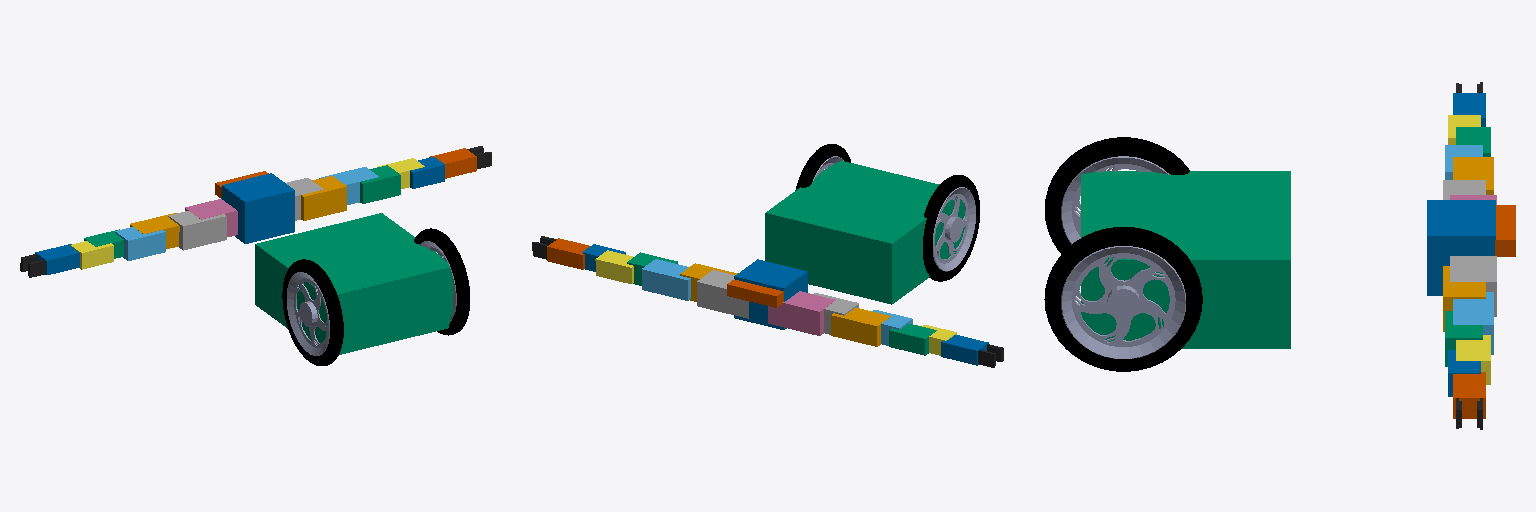
robot.urdf — Krang:
<?xml version="1.0" ?>
<!-- @file Krang.urdf -->
<!-- @author [author] -->
<!-- @date May 10, 2013 -->
<!-- @brief This file contains the .urdf definition for Krang. -->
<!-- NOTE: The center of mass locations are taken from the MassTable by summing up the -->
<!-- individual part values for the sections (which correspond to nodes here). -->
<!-- TODO: Set the center of mass locations -->
<!-- TODO: Set the correct masses. Note that the dae models have the brackets divided in two and -->
<!-- connected to the middle motor for which we do not have measurements. -->
<!-- NOTE: The bounding box values are taken by finding the min and max values of the dae files. -->

<robot name="Krang">

	<!-- Links -->

	<link name = "LWheel"> 
    <inertial>
      <mass value="4.66"/>
      <inertia ixx="0.102019" ixy="2.45462e-05" ixz="0.00713022" iyy="0.0832724" iyz="-0.00131733" izz="0.086493"/>
      <origin xyz="0 0 0"/>
    </inertial>
		<visual> <geometry> <mesh filename="Base/oldwheel.dae" /> </geometry> </visual> 
		<collision> <geometry> <mesh filename="Base/oldwheel.dae" /> </geometry> </collision> 
	</link>

	<link name = "RWheel"> 
    <inertial>
      <mass value="4.66"/>
      <inertia ixx="0.102019" ixy="2.45462e-05" ixz="0.00713022" iyy="0.0832724" iyz="-0.00131733" izz="0.086493"/>
      <origin xyz="0 0 0"/>
    </inertial>
		<visual> <geometry> <mesh filename="Base/oldwheel.dae" /> </geometry> </visual> 
		<collision> <geometry> <mesh filename="Base/oldwheel.dae" /> </geometry> </collision> 
	</link>

	<link name = "Base"> 
    <inertial>
      <mass value="75.767"/>
      <inertia ixx="0.102019" ixy="2.45462e-05" ixz="0.00713022" iyy="0.0832724" iyz="-0.00131733" izz="0.086493"/>
      <!-- origin xyz="-0.00336451 0.107572 -0.00636184"/ -->
      <origin xyz="-0.00194 0.076721 0.000628"/>
    </inertial>
		<visual> <origin xyz="0.00225 0.2097395 0.006300"/> <geometry> <box size="0.7165 0.71048 0.32860"/> </geometry> </visual> 
		<collision> <origin xyz="0.00225 0.2097395 0.006300"/> <geometry> <box size="0.7165 0.71048 0.32860"/> </geometry> </collision> 
	</link>

	<link name = "Spine"> 
    <inertial>
      <mass value="14.006"/>
      <inertia ixx="0.102019" ixy="2.45462e-05" ixz="0.00713022" iyy="0.0832724" iyz="-0.00131733" izz="0.086493"/>
			<!-- an offset of -0.02937 is added due to bad dae file and to align with base com ([author]: This is not done in the new valuws for now because I don't understand the reason) -->
      <!-- origin xyz="-0.02937 0.285314 0.0974926"/ -->
      <origin xyz="-0.000345 0.080526 0.051222"/>
    </inertial>
		<!-- visual> <origin xyz="-0.026 0.230150 0.053887"/> <geometry> <box size="0.2340 0.59430 0.24097"/> </geometry> </visual --> 
		<collision> <origin xyz="-0.026 0.230150 0.053887"/> <geometry> <box size="0.2340 0.59430 0.24097"/> </geometry> </collision> 
	</link>


	<link name = "Bracket"> 
    <inertial>
      <mass value="6.533"/>
      <inertia ixx="0.102019" ixy="2.45462e-05" ixz="0.00713022" iyy="0.0832724" iyz="-0.00131733" izz="0.086493"/>
			<!-- offseted with 0.0827 because the origin of the bracket is at the bottom ([author]: New values don't do this as I don't know what this means) -->
      <!-- origin xyz="0 0.080606 -0.00314267"/-->
    	<origin xyz="0 0.076445 -0.005972"/>
    </inertial>
		<visual> <origin xyz="0.0012875 0.0582 -0.0280530"/> <geometry> <box size="0.2815 0.23 0.22611"/> </geometry> </visual> 
		<collision> <origin xyz="0.0012875 0.0582 -0.0280530"/> <geometry> <box size="0.2815 0.23 0.22611"/> </geometry> </collision> 
	</link>

	<link name = "Kinect"> 
    <inertial>
      <mass value="0.705"/>
      <inertia ixx="0.102019" ixy="2.45462e-05" ixz="0.00713022" iyy="0.0832724" iyz="-0.00131733" izz="0.086493"/>
      <origin xyz="0.0 -0.04 -0.028"/>
    </inertial>
		<visual> <origin xyz="0.0 -0.0251 -0.0185"/> <geometry> <box size="0.28 0.07 0.063"/> </geometry> </visual> 
		<collision> <origin xyz="0.0 -0.0251 -0.0185"/> <geometry> <box size="0.28 0.07 0.063"/> </geometry> </collision> 
	</link>

	<link name = "L1"> 
    <inertial>
      <mass value="3.952"/>
      <inertia ixx="0.102019" ixy="2.45462e-05" ixz="0.00713022" iyy="0.0832724" iyz="-0.00131733" izz="0.086493"/>
      <!-- origin xyz="0.0063626 -0.00725706 0"/-->
      <origin xyz="0.006575 -0.160104 0"/>
    </inertial>
		<visual> <origin xyz="0.015 -0.080866 0.0"/> <geometry> <box size="0.16 0.29367 0.13188"/> </geometry> </visual> 
		<collision> <origin xyz="0.015 -0.080866 0.0"/> <geometry> <box size="0.16 0.29367 0.13188"/> </geometry> </collision> 
	</link>

	<link name = "L2"> 
    <inertial>
      <mass value="3.925"/>
      <inertia ixx="0.102019" ixy="2.45462e-05" ixz="0.00713022" iyy="0.0832724" iyz="-0.00131733" izz="0.086493"/>
      <!-- origin xyz="0.0101136 -0.15332 0"/-->
      <origin xyz="0.006895 -0.006745 0"/>
    </inertial>
		<visual> <origin xyz="0.017042 -0.058309 0.0"/> <geometry> <box size="0.14591 0.24658 0.13"/> </geometry> </visual> 
		<collision> <origin xyz="0.017042 -0.058309 0.0"/> <geometry> <box size="0.14591 0.24658 0.13"/> </geometry> </collision> 
	</link>

	<link name = "L3"> 
    <inertial>
      <mass value="2.373"/>
      <inertia ixx="0.102019" ixy="2.45462e-05" ixz="0.00713022" iyy="0.0832724" iyz="-0.00131733" izz="0.086493"/>
      <!-- origin xyz="0.0071222 -0.00803823 0"/-->
      <origin xyz="0.006855 -0.138146 0"/>
    </inertial>
		<visual> <origin xyz="0.014000 -0.075113 0.0"/> <geometry> <box size="0.13800 0.26217 0.11189"/> </geometry> </visual> 
		<collision> <origin xyz="0.014000 -0.075113 0.0"/> <geometry> <box size="0.13800 0.26217 0.11189"/> </geometry> </collision> 
	</link>

	<link name = "L4"> 
    <inertial>
      <mass value="2.373"/>
      <inertia ixx="0.102019" ixy="2.45462e-05" ixz="0.00713022" iyy="0.0832724" iyz="-0.00131733" izz="0.086493"/>
      <!--origin xyz="0.0115211 -0.1255 0"/-->
      <origin xyz="0.007691 -0.007366 0"/>
    </inertial>
		<visual> <origin xyz="0.018200 -0.052050 0.0"/> <geometry> <box size="0.12960 0.2141 0.11"/> </geometry> </visual> 
		<collision> <origin xyz="0.018200 -0.052050 0.0"/> <geometry> <box size="0.12960 0.2141 0.11"/> </geometry> </collision> 
	</link>

	<link name = "L5"> 
    <inertial>
      <mass value="1.41334"/>
      <inertia ixx="0.102019" ixy="2.45462e-05" ixz="0.00713022" iyy="0.0832724" iyz="-0.00131733" izz="0.086493"/>
      <!--origin xyz="0.00705037 -0.00747172 0"/-->
      <origin xyz="0.006777 -0.109824 0"/>
    </inertial>
		<visual> <origin xyz="0.0145115 -0.0571105 0.0000425"/> <geometry> <box size="0.117977 0.204179 0.089915"/> </geometry> </visual> 
		<collision> <origin xyz="0.0145115 -0.0571105 0.0000425"/> <geometry> <box size="0.117977 0.204179 0.089915"/> </geometry> </collision> 
	</link>

	<link name = "L6"> 
    <inertial>
      <mass value="2.64634"/>
      <inertia ixx="0.102019" ixy="2.45462e-05" ixz="0.00713022" iyy="0.0832724" iyz="-0.00131733" izz="0.086493"/>
      <!--origin xyz="0.0105523 -0.117163 0"/-->
      <origin xyz="0.005684 -0.071438 0"/>
    </inertial>
		<visual> <origin xyz="0.0175015 -0.0481615 0.0"/> <geometry> <box size="0.111977 0.185277 0.089"/> </geometry> </visual> 
		<collision> <origin xyz="0.0175015 -0.0481615 0.0"/> <geometry> <box size="0.111977 0.185277 0.089"/> </geometry> </collision> 
	</link>

	<link name = "lGripper"> 
    <inertial>
      <mass value="2.3"/>
      <inertia ixx="0.102019" ixy="2.45462e-05" ixz="0.00713022" iyy="0.0832724" iyz="-0.00131733" izz="0.086493"/>
			<!-- An addition of 4.05 cms from the end of Schunk gripper to space between two halves of ft ([author]: I don't know what this means so defered it for later while changing to new values) -->
      <origin xyz="0.008 0 0.065"/>
    </inertial>
		<visual> <origin xyz="0.0 -0.0 0.02615" rpy="0.0 0.0 1.5708"/> <geometry> <box size="0.08 0.112 0.2025"/> </geometry> </visual> 
		<collision> <origin xyz="0.0 -0.0 0.02615" rpy="0.0 0.0 1.5708"/> <geometry> <box size="0.08 0.112 0.2025"/> </geometry> </collision> 
	</link>

	<link name = "lgPlate1">
    <inertial> <mass value="0.0001"/> </inertial>
		<visual> <geometry> <mesh filename="Schunk/gripperPlate.dae" /> </geometry> </visual>
	</link> 	

	<link name = "lgPlate2">
    <inertial> <mass value="0.0001"/> </inertial>
		<visual> <geometry> <mesh filename="Schunk/gripperPlate.dae" /> </geometry> </visual>
	</link> 	

	<link name = "R1"> 
    <inertial>
      <mass value="3.952"/>
      <inertia ixx="0.102019" ixy="2.45462e-05" ixz="0.00713022" iyy="0.0832724" iyz="-0.00131733" izz="0.086493"/>
      <!--origin xyz="0.0063626 -0.00725706 0"/-->
     <origin xyz="0.006575 -0.160104 0"/>
    </inertial>
		<visual> <origin xyz="0.015 -0.080866 0.0"/> <geometry> <box size="0.16 0.29367 0.13188"/> </geometry> </visual> 
		<collision> <origin xyz="0.015 -0.080866 0.0"/> <geometry> <box size="0.16 0.29367 0.13188"/> </geometry> </collision> 
	</link>

	<link name = "R2"> 
    <inertial>
      <mass value="3.925"/>
      <inertia ixx="0.102019" ixy="2.45462e-05" ixz="0.00713022" iyy="0.0832724" iyz="-0.00131733" izz="0.086493"/>
      <!--origin xyz="0.0101136 -0.15332 0"/-->
      <origin xyz="0.006895 -0.006745 0"/>
    </inertial>
		<visual> <origin xyz="0.017042 -0.058309 0.0"/> <geometry> <box size="0.14591 0.24658 0.13"/> </geometry> </visual> 
		<collision> <origin xyz="0.017042 -0.058309 0.0"/> <geometry> <box size="0.14591 0.24658 0.13"/> </geometry> </collision> 
	</link>

	<link name = "R3"> 
    <inertial>
      <mass value="2.373"/>
      <inertia ixx="0.102019" ixy="2.45462e-05" ixz="0.00713022" iyy="0.0832724" iyz="-0.00131733" izz="0.086493"/>
      <!--origin xyz="0.0071222 -0.00803823 0"/-->
      <origin xyz="0.006855 -0.138146 0"/>
    </inertial>
		<visual> <origin xyz="0.014000 -0.075113 0.0"/> <geometry> <box size="0.13800 0.26217 0.11189"/> </geometry> </visual> 
		<collision> <origin xyz="0.014000 -0.075113 0.0"/> <geometry> <box size="0.13800 0.26217 0.11189"/> </geometry> </collision> 
	</link>

	<link name = "R4"> 
    <inertial>
      <mass value="2.373"/>
      <inertia ixx="0.102019" ixy="2.45462e-05" ixz="0.00713022" iyy="0.0832724" iyz="-0.00131733" izz="0.086493"/>
      <!--origin xyz="0.0115211 -0.1255 0"/-->
      <origin xyz="0.007691 -0.007366 0"/>
    </inertial>
		<visual> <origin xyz="0.018200 -0.052050 0.0"/> <geometry> <box size="0.12960 0.2141 0.11"/> </geometry> </visual> 
		<collision> <origin xyz="0.018200 -0.052050 0.0"/> <geometry> <box size="0.12960 0.2141 0.11"/> </geometry> </collision> 
	</link>

	<link name = "R5"> 
    <inertial>
      <mass value="1.41334"/>
      <inertia ixx="0.102019" ixy="2.45462e-05" ixz="0.00713022" iyy="0.0832724" iyz="-0.00131733" izz="0.086493"/>
      <!--origin xyz="0.00705037 -0.00747172 0"/-->
      <origin xyz="0.006777 -0.109824 0"/>
    </inertial>
		<visual> <origin xyz="0.0145115 -0.0571105 0.0000425"/> <geometry> <box size="0.117977 0.204179 0.089915"/> </geometry> </visual> 
		<collision> <origin xyz="0.0145115 -0.0571105 0.0000425"/> <geometry> <box size="0.117977 0.204179 0.089915"/> </geometry> </collision> 
	</link>

	<link name = "R6"> 
    <inertial>
      <mass value="2.64634"/>
      <inertia ixx="0.102019" ixy="2.45462e-05" ixz="0.00713022" iyy="0.0832724" iyz="-0.00131733" izz="0.086493"/>
      <!--origin xyz="0.0105523 -0.117163 0"/-->
      <origin xyz="0.005684 -0.071438 0"/>
    </inertial>
		<visual> <origin xyz="0.0175015 -0.0481615 0.0"/> <geometry> <box size="0.111977 0.185277 0.089"/> </geometry> </visual> 
		<collision> <origin xyz="0.0175015 -0.0481615 0.0"/> <geometry> <box size="0.111977 0.185277 0.089"/> </geometry> </collision> 
	</link>

	<link name = "rGripper"> 
    <inertial>
      <mass value="2.3"/>
      <inertia ixx="0.102019" ixy="2.45462e-05" ixz="0.00713022" iyy="0.0832724" iyz="-0.00131733" izz="0.086493"/>
			<!-- An addition of 4.05 cms from the end of Schunk gripper to space between two halves of ft -->
      <!--origin xyz="0 0 0.1055"/-->
      <origin xyz="0.008 0 0.065"/>
    </inertial>
		<visual> <origin xyz="0.0 -0.0 0.02615" rpy="0.0 0.0 1.5708"/> <geometry> <box size="0.08 0.112 0.2025"/> </geometry> </visual> 
		<collision> <origin xyz="0.0 -0.0 0.02615" rpy="0.0 0.0 1.5708"/> <geometry> <box size="0.08 0.112 0.2025"/> </geometry> </collision> 
	</link>

	<link name = "rgPlate1">
    <inertial> <mass value="0.0001"/> </inertial>
		<visual> <geometry> <mesh filename="Schunk/gripperPlate.dae" /> </geometry> </visual>
	</link> 	

	<link name = "rgPlate2">
    <inertial> <mass value="0.0001"/> </inertial>
		<visual> <geometry> <mesh filename="Schunk/gripperPlate.dae" /> </geometry> </visual>
	</link> 	

	<!-- ======================================================================================================== -->
	<!-- ============================================ Joints ==================================================== -->
	<!-- ======================================================================================================== -->

	<joint name="JLWheel" type="revolute"> <parent link="Base" /> <child link="LWheel" />
		<origin xyz = "-0.354 0.0 0" rpy="0 0 0" />
		<axis xyz="1 0 0" /> <limit effort="1000" lower="-3.1416" upper="3.1416" velocity="0.1" />
	</joint>

	<joint name="JRWheel" type="revolute"> <parent link="Base" /> <child link="RWheel" />
		<origin xyz = "0.361 0.0 0" rpy="0 0 0" />
		<axis xyz="1 0 0" /> <limit effort="1000" lower="-3.1416" upper="3.1416" velocity="0.1" />
	</joint>

	<joint name="JWaist" type="revolute"> <parent link="Base" /> <child link="Spine" />
		<origin xyz = "0.026 0.499 -0.091" rpy="0 0 0" />
		<axis xyz="-1 0 0" /> <limit effort="1000" lower="0" upper="2.7" velocity="0.1" />
	</joint>

	<joint name="JTorso" type="revolute"> <parent link="Spine" /> <child link="Bracket" />
		<origin xyz = "-0.0285 0.584 0.1088" rpy="0 3.1416 0" /> 
		<axis xyz="0 -1 0" /> <limit effort="1000" lower="-0.8" upper="0.8" velocity="0.1" />
	</joint>

	<joint name="JKinect" type="revolute"> <parent link="Bracket" /> <child link="Kinect" />
		<origin xyz = "-0.001 0.1805 -0.1120" rpy="3.1416 0 0" />
		<axis xyz="1 0 0" /> <limit effort="1000" lower="-3.1416" upper="3.1416" velocity="0.1" />
	</joint>

	<joint name="LJ1" type="revolute"> <parent link="Bracket" /> <child link="L1" />
		<origin xyz = "0.2823 0.0845 0" rpy="0 3.1416 -1.5708" />
		<axis xyz="0 -1 0" /> <limit effort="1000" lower="-3.1416" upper="3.1416" velocity="0.1" />
	</joint>

	<joint name="LJ2" type="revolute"> <parent link="L1" /> <child link="L2" />
		<origin xyz="0 0.0 0" rpy="3.14 3.14 0" />
		<axis xyz="-1 0 0" /> <limit effort="1000" lower="-2.094" upper="2.094" velocity="0.1" />
	</joint>

	<joint name="LJ3" type="revolute"> <parent link="L2" /> <child link="L3" />
		<origin xyz="0 -0.328 0" rpy="-3.1416 -3.1416 0" />
		<axis xyz="0 -1 0" /> <limit effort="1000" lower="-3.1416" upper="3.1416" velocity="0.1" />
	</joint>

	<joint name="LJ4" type="revolute"> <parent link="L3" /> <child link="L4" />
		<origin xyz="0 0 0" rpy="3.1416 3.1416 0" />
		<axis xyz="-1 0 0" /> <limit effort="1000" lower="-2.094" upper="2.094" velocity="0.1" />
	</joint>

	<joint name="LJ5" type="revolute"> <parent link="L4" /> <child link="L5" />
		<origin xyz="0 -0.2765 0" rpy="3.1416 3.1416 0" />
		<axis xyz="0 -1 0" /> <limit effort="1000" lower="-3.1416" upper="3.1416" velocity="0.1" />
	</joint>

	<joint name="LJ6" type="revolute"> <parent link="L5" /> <child link="L6" />
		<origin xyz="0 0 0" rpy="3.1416 3.1416 0" />
		<axis xyz="-1 0 0" /> <limit effort="1000" lower="-2.094" upper="2.094" velocity="0.1" />
	</joint>

	<!-- For some reason, I had to negate the axis to make sure the motor turns like the others -->
	<joint name="LJFT" type="revolute"> <parent link="L6" /> <child link="lGripper" />
		<origin xyz="0 -0.200 0" rpy="1.5708 3.1416 0" />
		<axis xyz="0 0 -1" /> <limit effort="1000" lower="-3.1416" upper="3.1416" velocity="0.1" />
	</joint>

	<joint name="LMotorPlate1" type="fixed"> <parent link="lGripper" /> <child link="lgPlate1" />
		<origin xyz="-0.045 0.0 0.127" rpy="3.1416 0 0" />
		<axis xyz="1 0 0" /> <limit effort="1000" lower="0.0" upper="0.022" velocity="0.1" />
	</joint>

	<joint name="LMotorPlate2" type="fixed"> <parent link="lGripper" /> <child link="lgPlate2" />
		<origin xyz="0.045 0.000 0.127" rpy="3.1416 0 3.1416" />
		<axis xyz="1 0 0" /> <limit effort="1000" lower="0.0" upper="0.022" velocity="0.1" />
	</joint>

	<!-- Right arm -->

	<joint name="RJ1" type="revolute"> <parent link="Bracket" /> <child link="R1" />
		<origin xyz = "-0.2823 0.0845 0" rpy="0 0 1.5708" />
		<axis xyz="0 -1 0" /> <limit effort="1000" lower="-3.1416" upper="3.1416" velocity="0.1" />
	</joint>

	<joint name="RJ2" type="revolute"> <parent link="R1" /> <child link="R2" />
		<origin xyz="0 0.0 0" rpy="3.14 3.14 0" />
		<axis xyz="-1 0 0" /> <limit effort="1000" lower="-2.094" upper="2.094" velocity="0.1" />
	</joint>

	<joint name="RJ3" type="revolute"> <parent link="R2" /> <child link="R3" />
		<origin xyz="0 -0.328 0" rpy="-3.1416 -3.1416 0" />
		<axis xyz="0 -1 0" /> <limit effort="1000" lower="-3.1416" upper="3.1416" velocity="0.1" />
	</joint>

	<joint name="RJ4" type="revolute"> <parent link="R3" /> <child link="R4" />
		<origin xyz="0 0 0" rpy="3.1416 3.1416 0" />
		<axis xyz="-1 0 0" /> <limit effort="1000" lower="-2.094" upper="2.094" velocity="0.1" />
	</joint>

	<joint name="RJ5" type="revolute"> <parent link="R4" /> <child link="R5" />
		<origin xyz="0 -0.2765 0" rpy="3.1416 3.1416 0" />
		<axis xyz="0 -1 0" /> <limit effort="1000" lower="-3.1416" upper="3.1416" velocity="0.1" />
	</joint>

	<joint name="RJ6" type="revolute"> <parent link="R5" /> <child link="R6" />
		<origin xyz="0 0 0" rpy="3.1416 3.1416 0" />
		<axis xyz="-1 0 0" /> <limit effort="1000" lower="-2.094" upper="2.094" velocity="0.1" />
	</joint>

	<joint name="RJFT" type="revolute"> <parent link="R6" /> <child link="rGripper" />
		<origin xyz="0 -0.200 0" rpy="1.5708 3.1416 0" />
		<axis xyz="0 0 -1" /> <limit effort="1000" lower="-3.1416" upper="3.1416" velocity="0.1" />
	</joint>

	<joint name="RMotorPlate1" type="fixed"> <parent link="rGripper" /> <child link="rgPlate1" />
		<origin xyz="-0.045 0.0 0.127" rpy="3.1416 0 0" />
		<axis xyz="1 0 0" /> <limit effort="1000" lower="0.0" upper="0.022" velocity="0.1" />
	</joint>

	<joint name="RMotorPlate2" type="fixed"> <parent link="rGripper" /> <child link="rgPlate2" />
		<origin xyz="0.045 0.000 0.127" rpy="3.1416 0 3.1416" />
		<axis xyz="1 0 0" /> <limit effort="1000" lower="0.0" upper="0.022" velocity="0.1" />
	</joint>

</robot>

--- Facts derived from the render (not from the file) ---
Views: 3 orthographic renders of the robot side by side, from view 1: azimuth 30°, elevation 25°; view 2: azimuth 150°, elevation 25°; view 3: azimuth 270°, elevation 25°.
Robot: Krang — 24 links, 23 joints (19 revolute, 4 fixed); root link Base; default pose: every joint at zero.
Visible links, largest first — view 1: Base, LWheel, Bracket, RWheel, L2, R2, L4, R4, lGripper, L1, rGripper, R6 (+4 smaller); view 2: Base, LWheel, Bracket, L1, L3, R1, R3, RWheel, L5, Kinect, R5, lGripper (+2 smaller); view 3: Base, RWheel, LWheel, Bracket, R1, R3, rGripper, L3, Kinect, R2, R5, R4 (+6 smaller).
Link boxes in pixels (x1,y1,x2,y2): Base: (255,213,453,354); LWheel: (282,259,343,365); Bracket: (222,173,294,243); RWheel: (414,228,469,335); L2: (168,211,226,250); R2: (301,176,346,220); L4: (115,227,165,260); R4: (360,165,400,203); lGripper: (35,244,79,274); L1: (185,199,237,236); rGripper: (429,148,476,178); R6: (410,157,444,188); Base: (765,161,964,304); LWheel: (923,175,979,281); Bracket: (734,259,807,329); L1: (768,291,835,335); L3: (831,308,890,346); R1: (697,270,748,318); R3: (642,259,690,300); RWheel: (795,144,850,190); L5: (889,324,936,355); Kinect: (727,279,783,307); R5: (595,250,633,283); lGripper: (941,335,988,365); Base: (1081,171,1290,348); RWheel: (1044,227,1202,371); LWheel: (1045,137,1189,254); Bracket: (1427,200,1495,295); R1: (1450,256,1496,316); R3: (1453,292,1493,354); rGripper: (1453,372,1485,418); L3: (1453,157,1493,194); Kinect: (1495,205,1515,256); R2: (1443,266,1485,331); R5: (1456,335,1490,384); R4: (1445,311,1482,366).
Size in the robot's own frame: 2.61 by 1.59 by 0.5335 metres.
Meshes: 2 distinct files referenced, 6 mesh visuals loaded (2 Collada DAE).
